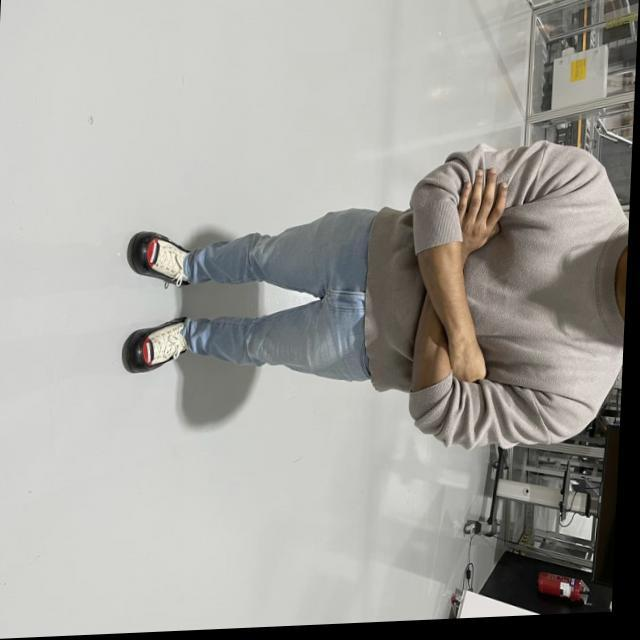shoes: (115, 315, 199, 368), (136, 228, 199, 286)
